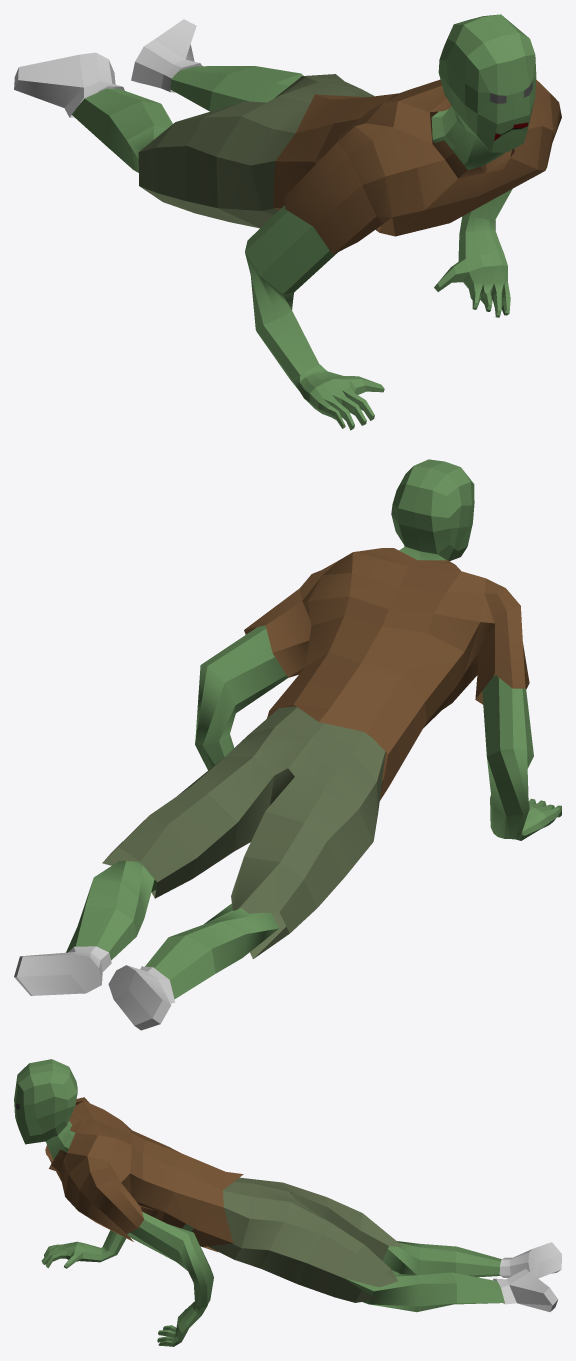
The model's file is ZombieCrawl(42).obj.
3 renders of one model, top to bottom at view 1: azimuth 30°, elevation 25°; view 2: azimuth 150°, elevation 25°; view 3: azimuth 270°, elevation 25°, orthographic. The views are drawn at different scales.
Visible parts, largest first — view 1: Object001; view 2: Object001; view 3: Object001.
Part boxes in pixels (<box>): Object001: <box>14,14,561,430</box>; Object001: <box>14,459,561,1030</box>; Object001: <box>14,1059,561,1346</box>.
Bounding box in the file's own units: 25.92 × 27.79 × 55.5.
